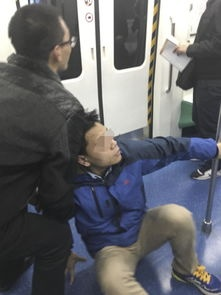falling: (66, 101, 220, 290)
